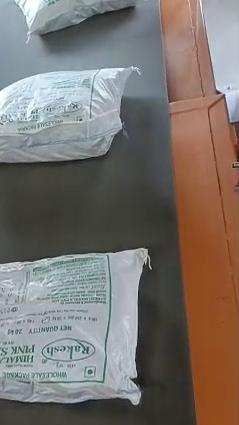box: (0, 249, 148, 404), (0, 67, 138, 163)
